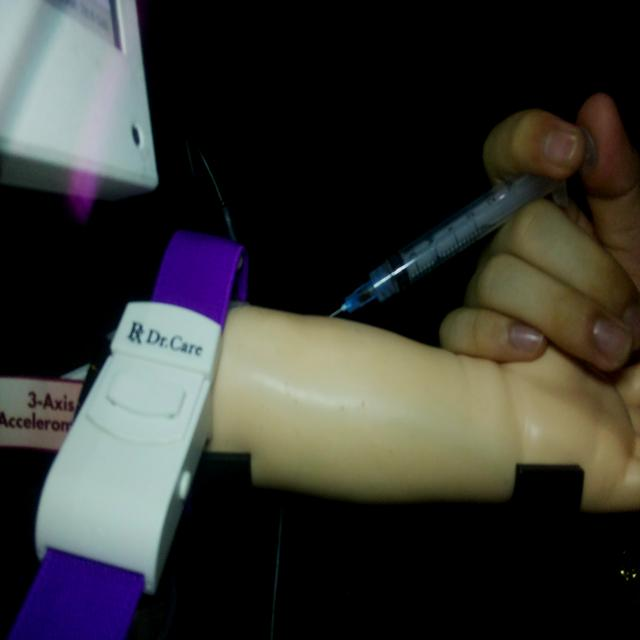25 degrees: (330, 122, 600, 318)
